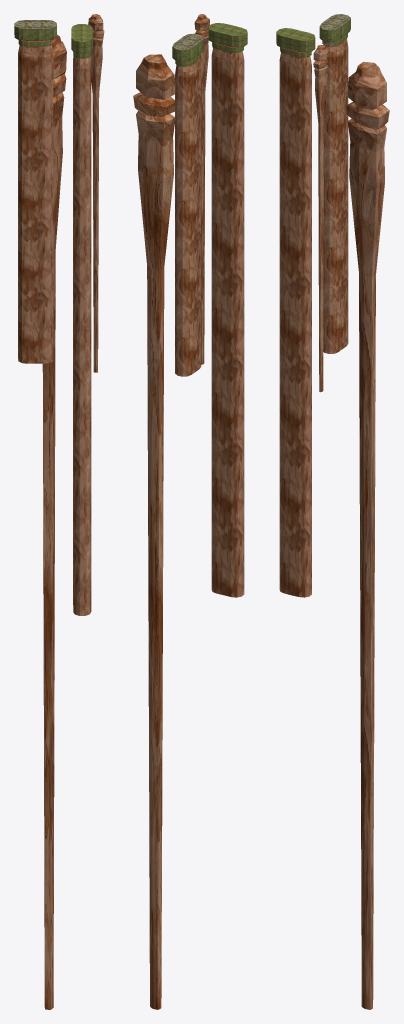
The model's file is STG08_ON_23.obj.
3 renders of one model, left to right at view 1: azimuth 90°, elevation 25°; view 2: azimuth 150°, elevation 25°; view 3: azimuth 330°, elevation 25°, orthographic. The views are drawn at different scales.
Visible parts, largest first — view 1: Object_2; view 2: Object_2; view 3: Object_2.
Boxes of the visible parts, x1,y1,x2,y2 form: Object_2: (14, 14, 104, 1009); Object_2: (133, 14, 247, 1009); Object_2: (276, 14, 389, 1009).
Bounding box in the file's own units: 4924 × 48924 × 3977.
7 materials, 7 textured.
